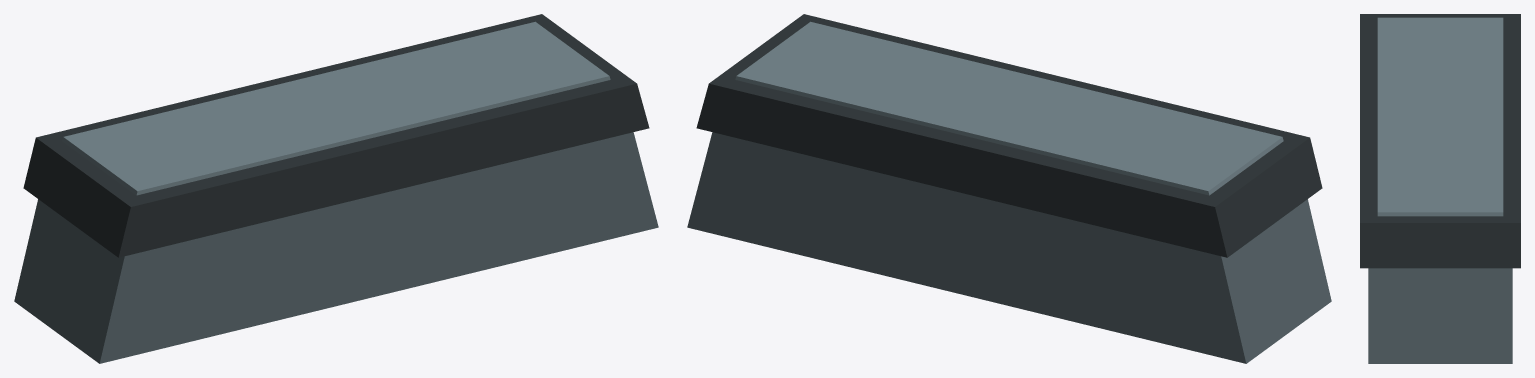
Rendered from Bench 01.FBX.
The picture shows the model from 3 angles, left to right: view 1: azimuth 30°, elevation 25°; view 2: azimuth 150°, elevation 25°; view 3: azimuth 270°, elevation 25°; orthographic projection. The views are drawn at different scales.
Visible parts, largest first — view 1: Bench 01; view 2: Bench 01; view 3: Bench 01.
Part boxes in pixels (x1,y1,x2,y2): Bench 01: [14, 14, 658, 363]; Bench 01: [687, 14, 1331, 363]; Bench 01: [1360, 14, 1520, 363].
Size of the model in its own units: 178 by 47.96 by 52.3.
